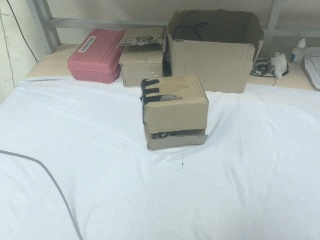box: (166, 7, 264, 95), (140, 74, 209, 151), (65, 27, 126, 85), (120, 35, 166, 89)
